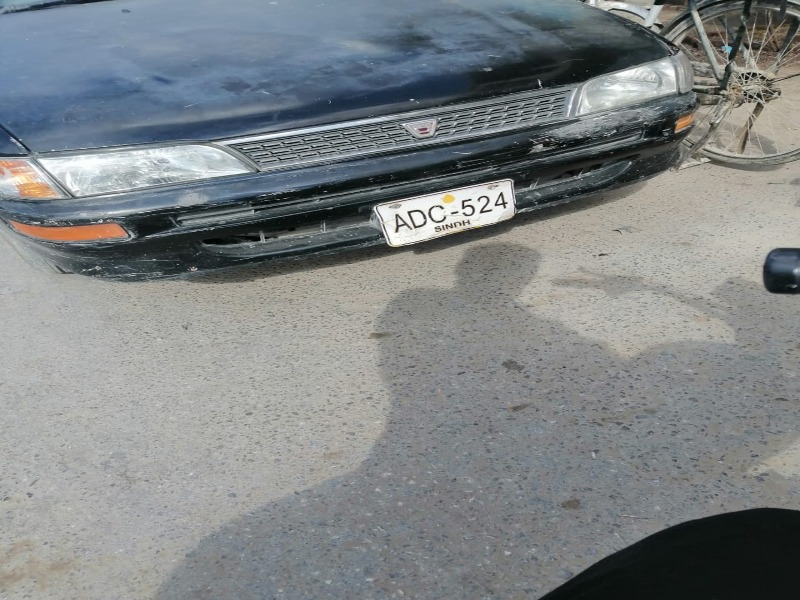License Plate: (371, 179, 520, 243)
